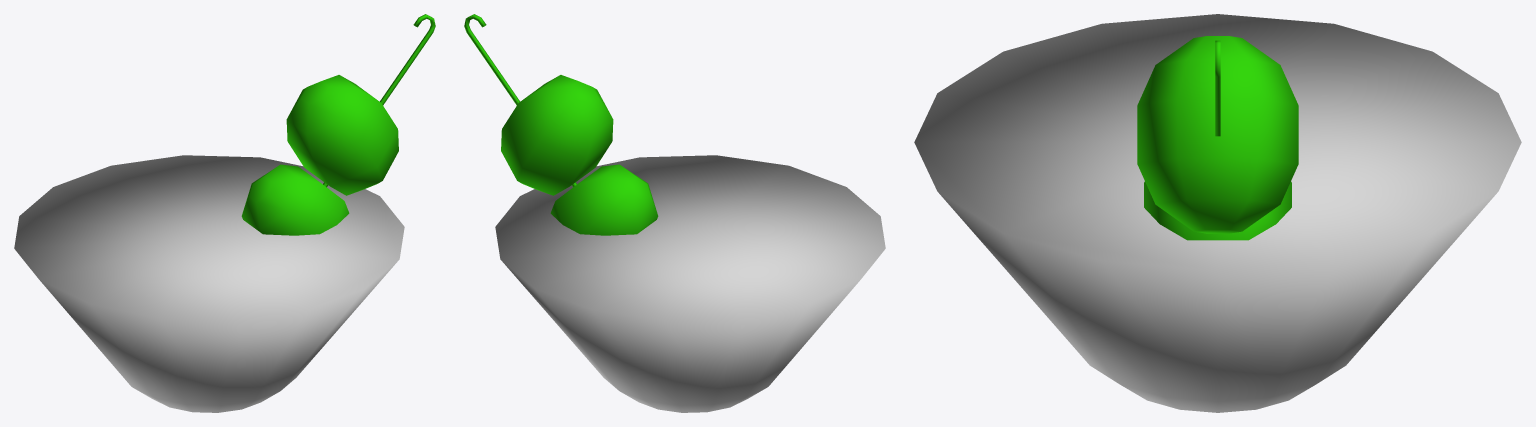
File: BHP_MOD_DRI_Martini.fbx
3 renders of one model, left to right at view 1: azimuth 30°, elevation 25°; view 2: azimuth 150°, elevation 25°; view 3: azimuth 270°, elevation 25°, orthographic. The views are drawn at different scales.
Parts seen in each view (by area): view 1: BHP_MOD_Martini; view 2: BHP_MOD_Martini; view 3: BHP_MOD_Martini.
Part boxes in pixels (x1,y1,x2,y2): BHP_MOD_Martini: (14,14,435,412); BHP_MOD_Martini: (464,14,885,412); BHP_MOD_Martini: (914,14,1521,412).
Size of the model in its own units: 0.1211 by 0.0972 by 0.1043.
